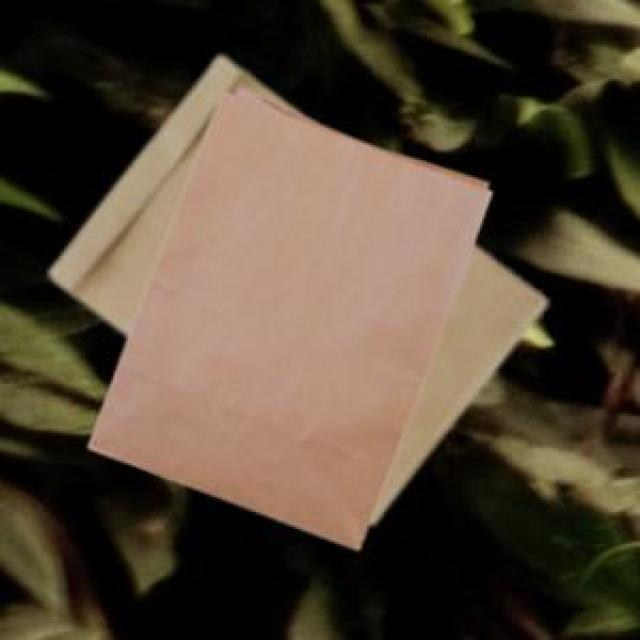paper: (47, 53, 542, 518), (85, 85, 486, 544)
